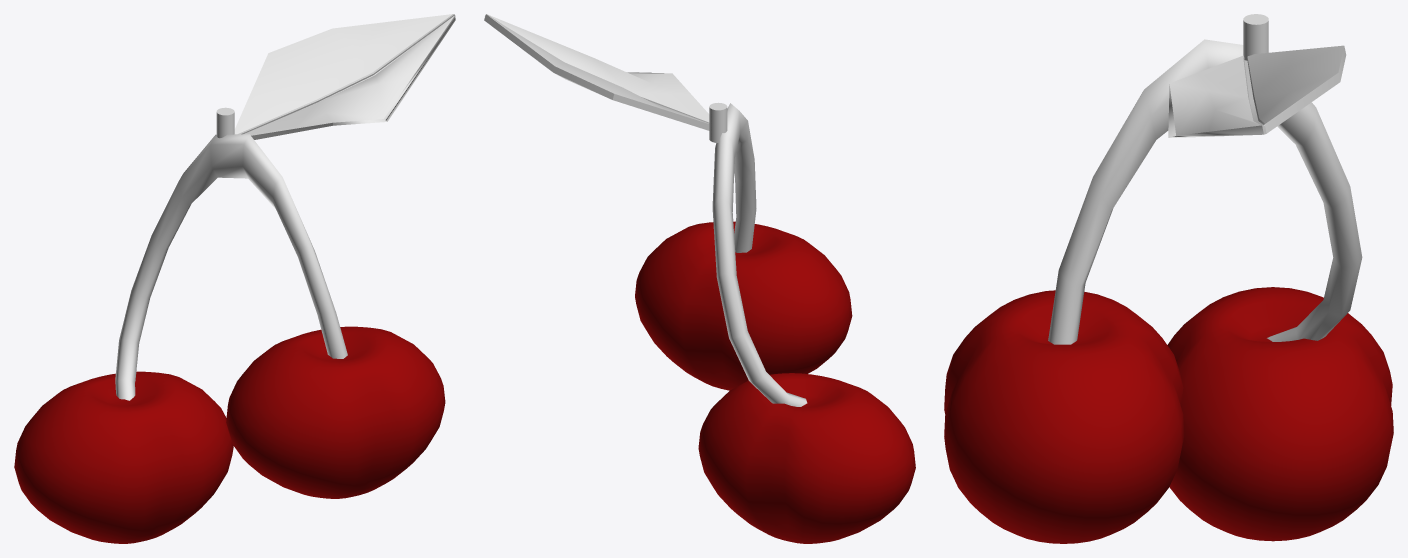
File: ingredients_cherry.FBX
The picture shows the model from 3 angles, left to right: view 1: azimuth 30°, elevation 25°; view 2: azimuth 150°, elevation 25°; view 3: azimuth 270°, elevation 25°; orthographic projection. The views are drawn at different scales.
Parts seen in each view (by area): view 1: Sphere003, Sphere002, Line003, Spring001, Cylinder001; view 2: Sphere003, Sphere002, Spring001, Line003, Cylinder001; view 3: Sphere002, Sphere003, Spring001, Line003, Cylinder001.
Boxes of the visible parts, x1,y1,x2,y2 form: Sphere003: [14, 371, 233, 543]; Sphere002: [226, 326, 445, 498]; Line003: [234, 14, 455, 139]; Spring001: [115, 134, 347, 400]; Cylinder001: [216, 107, 234, 138]; Sphere003: [698, 373, 915, 543]; Sphere002: [635, 221, 852, 390]; Spring001: [712, 103, 807, 406]; Line003: [484, 14, 709, 130]; Cylinder001: [709, 102, 727, 142]; Sphere002: [944, 290, 1184, 543]; Sphere003: [1167, 287, 1393, 541]; Spring001: [1048, 39, 1362, 344]; Line003: [1168, 45, 1346, 137]; Cylinder001: [1243, 14, 1268, 60].
Size of the model in its own units: 25.1 by 24.88 by 16.07.
